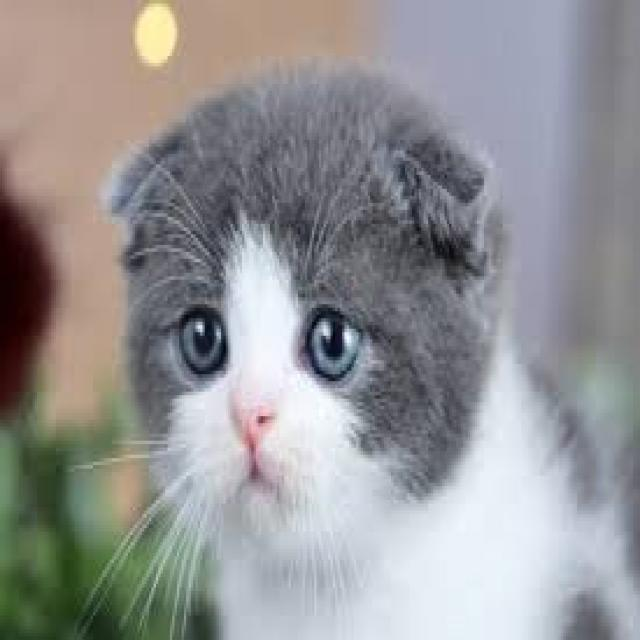cat-face: (91, 38, 522, 578)
